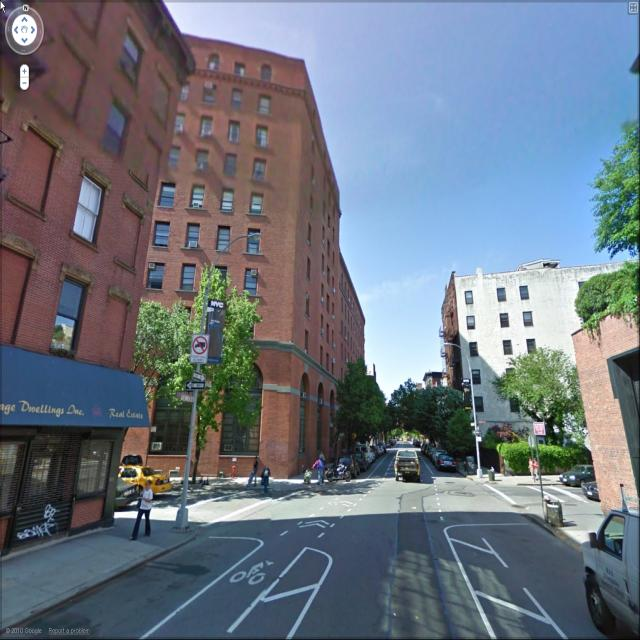b_1: (1, 8, 194, 555), (242, 46, 360, 452), (437, 257, 581, 403)
b_2: (127, 37, 351, 466)
